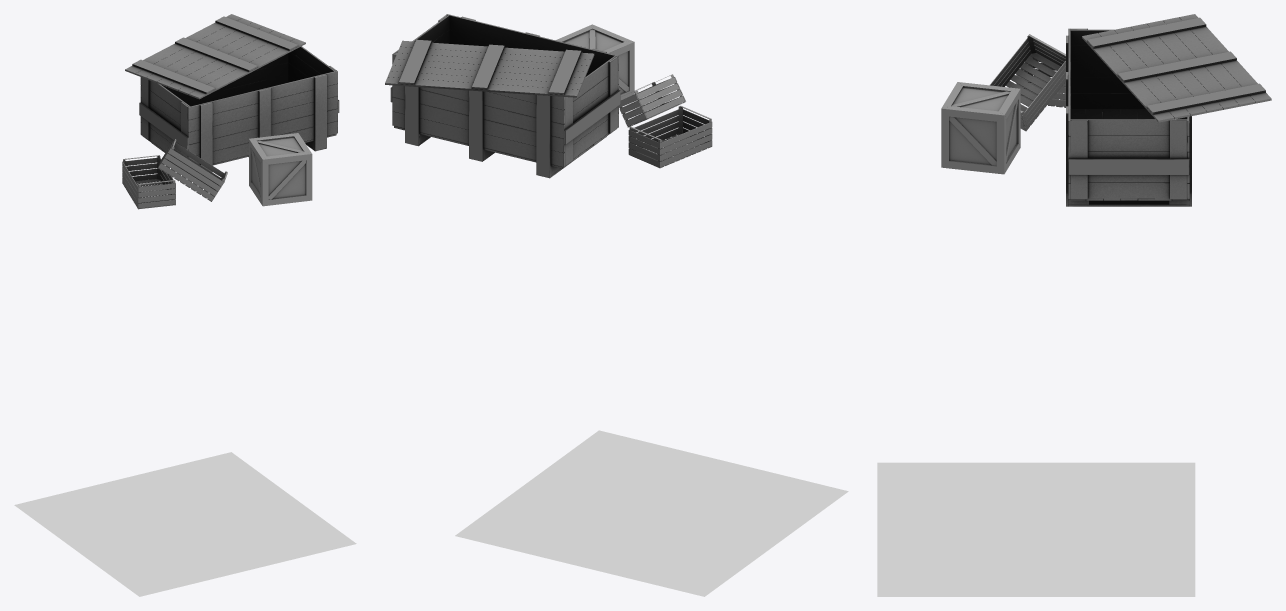
Rendered from crates.dae.
3 renders of one model, left to right at view 1: azimuth 30°, elevation 25°; view 2: azimuth 150°, elevation 25°; view 3: azimuth 270°, elevation 25°, orthographic. The views are drawn at different scales.
Parts seen in each view (by area): view 1: Plane, Cube.059, Cube.076, Plane.005, Cube.000, Cube.013; view 2: Plane, Cube.059, Cube.076, Cube.000, Plane.005, Cube.013; view 3: Plane, Cube.059, Cube.076, Plane.005, Cube.013, Cube.000.
Part boxes in pixels (x1,y1,x2,y2): Plane: [14, 452, 356, 596]; Cube.059: [139, 46, 339, 172]; Cube.076: [125, 14, 305, 99]; Plane.005: [249, 133, 312, 206]; Cube.000: [122, 155, 175, 209]; Cube.013: [158, 139, 227, 201]; Plane: [455, 430, 848, 596]; Cube.059: [390, 14, 620, 178]; Cube.076: [385, 39, 594, 97]; Cube.000: [628, 105, 712, 168]; Plane.005: [556, 24, 634, 100]; Cube.013: [619, 74, 685, 127]; Plane: [877, 462, 1195, 596]; Cube.059: [1066, 28, 1191, 206]; Cube.076: [1082, 14, 1271, 122]; Plane.005: [941, 82, 1020, 174]; Cube.013: [990, 34, 1065, 131]; Cube.000: [1016, 56, 1065, 107].
Bounding box in the file's own units: 14.55 × 14.14 × 20.56.
Materials: 4 (4 with a texture image).
